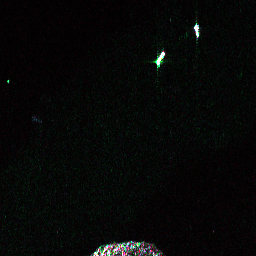ship: (152, 49, 166, 68), (192, 22, 201, 40)
